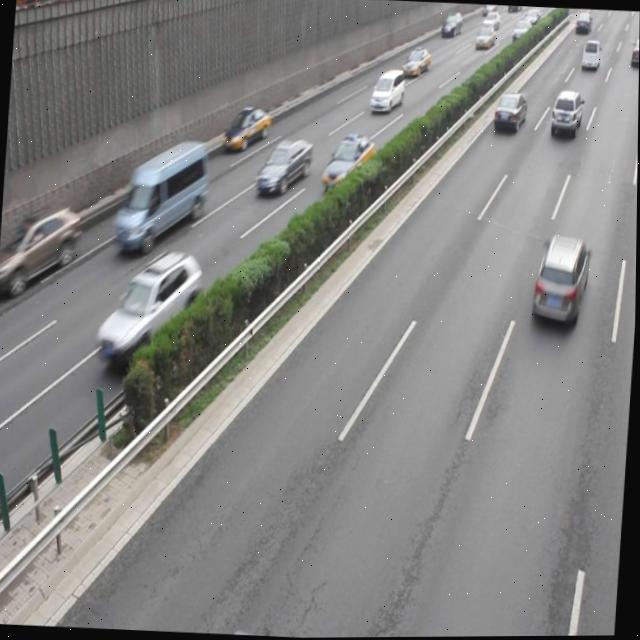car: (96, 245, 206, 366), (0, 201, 81, 293), (531, 232, 591, 327), (255, 134, 314, 198), (321, 133, 377, 194), (222, 101, 272, 154), (549, 90, 583, 141), (491, 91, 527, 134)
truck: (116, 135, 213, 254), (371, 68, 405, 116)
